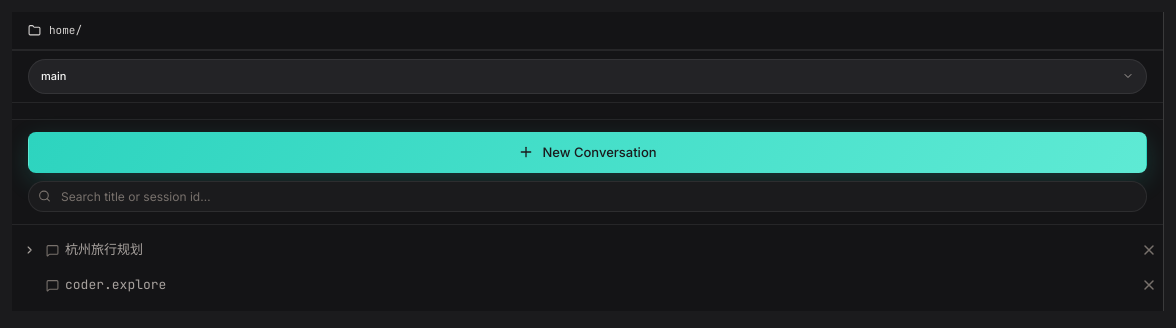
Scenario: Sidebar search (PA-09) › shows a no-match message and clear button
In the search field labelled "Search": (588, 196) [28,180,1147,212], type "nothing-matches"
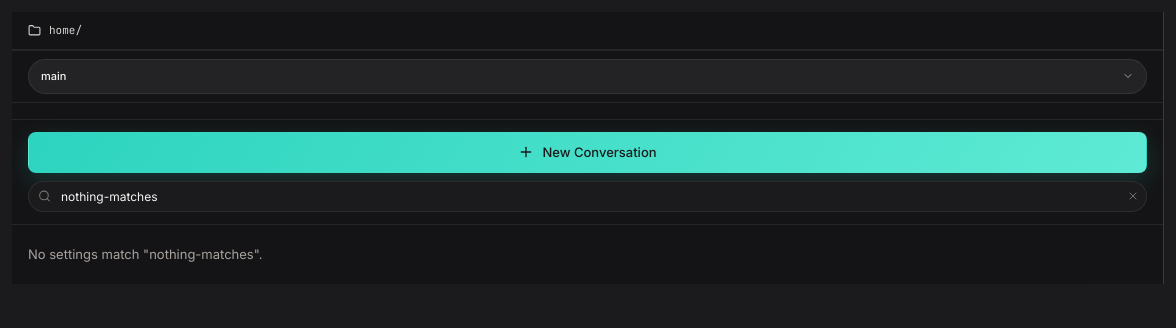
Expected: the text "No settings match \"nothing-matches\"." is shown, [28,246,262,262]
Click the button named "Clear search": (1133, 196) [1127,190,1139,202]
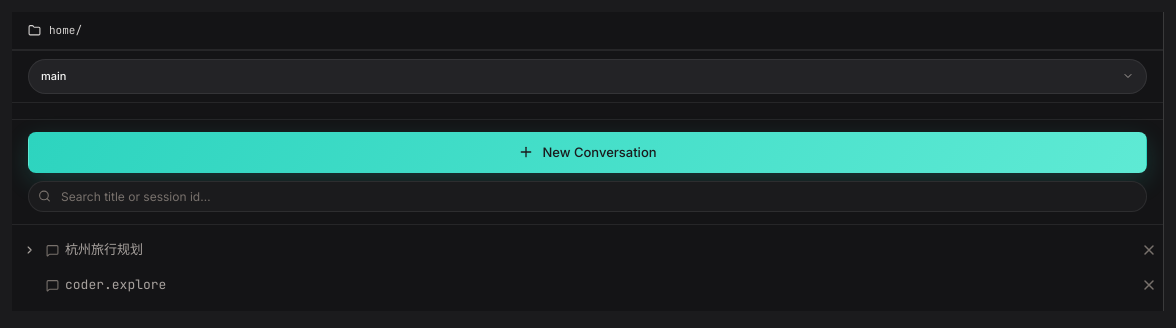
Expected: the text "杭州旅行规划" is shown, [65,241,143,260]
